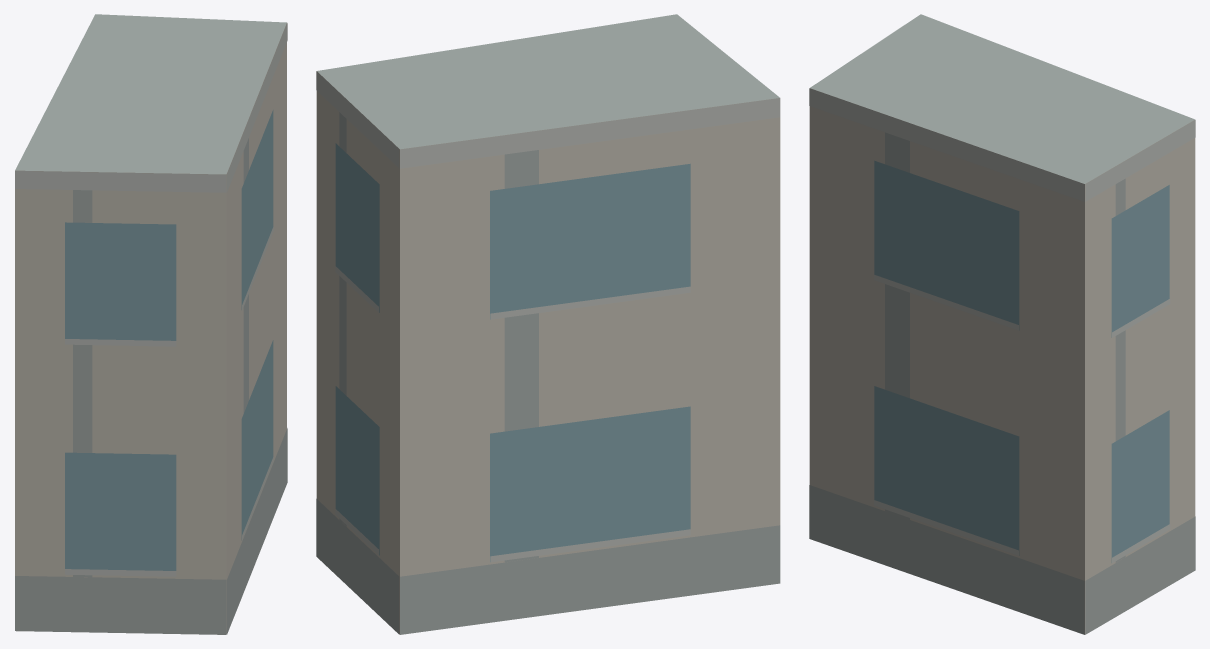
Rendered from survey-upis-32646961.glb.
3 views of the same model, side by side, from view 1: azimuth 30°, elevation 25°; view 2: azimuth 150°, elevation 25°; view 3: azimuth 270°, elevation 25° (orthographic). The views are drawn at different scales.
Parts seen in each view (by area): view 1: survey-upis-32646961.tmp; view 2: survey-upis-32646961.tmp; view 3: survey-upis-32646961.tmp.
Boxes of the visible parts, x1,y1,x2,y2 form: survey-upis-32646961.tmp: [15, 14, 287, 634]; survey-upis-32646961.tmp: [316, 14, 780, 634]; survey-upis-32646961.tmp: [809, 14, 1195, 634].
Size of the model in its own units: 4.94 by 6.1 by 4.74.
